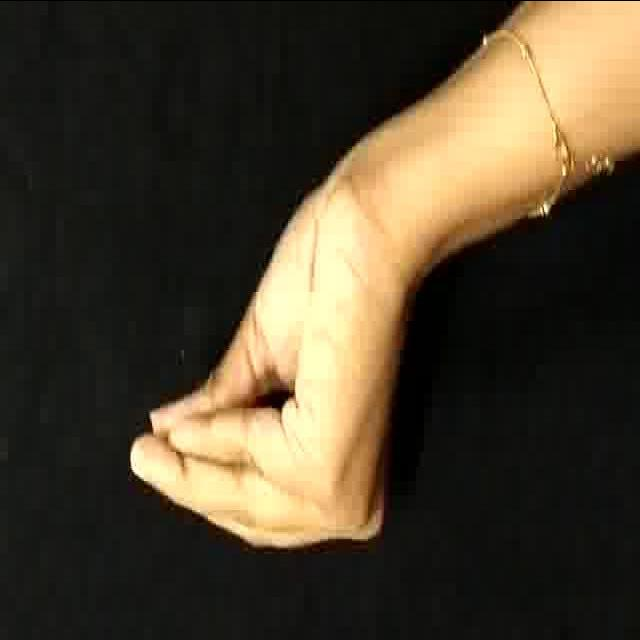mukul: (99, 140, 417, 556)
